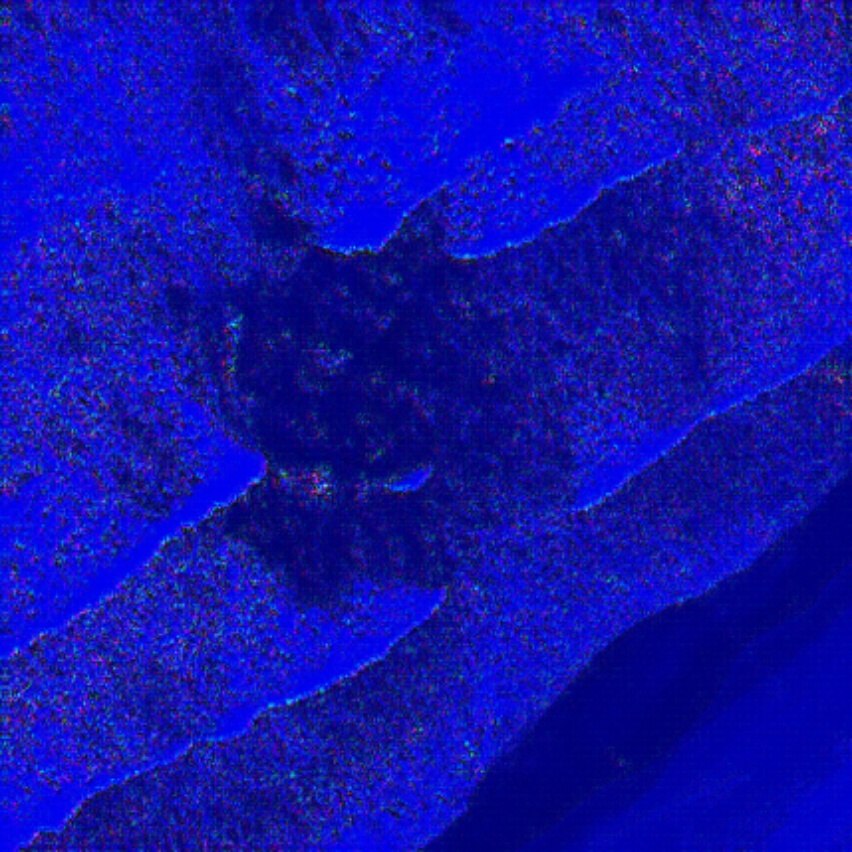rip_current: (119, 90, 588, 638)
